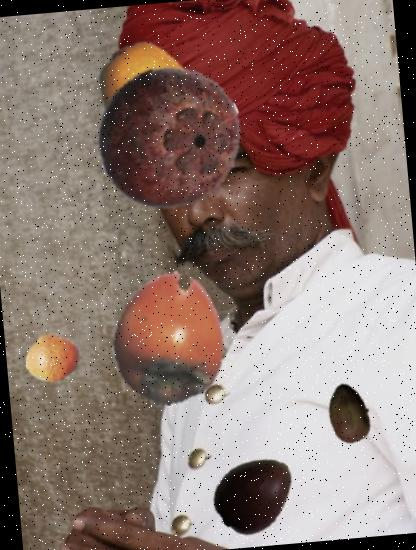Kaki: (96, 265, 243, 412)
Kumquats: (82, 34, 226, 179)
Mandarine: (22, 328, 83, 388)
Mango: (208, 448, 300, 540)
Mangostan: (90, 58, 250, 218)
Papaya: (316, 379, 383, 446)
